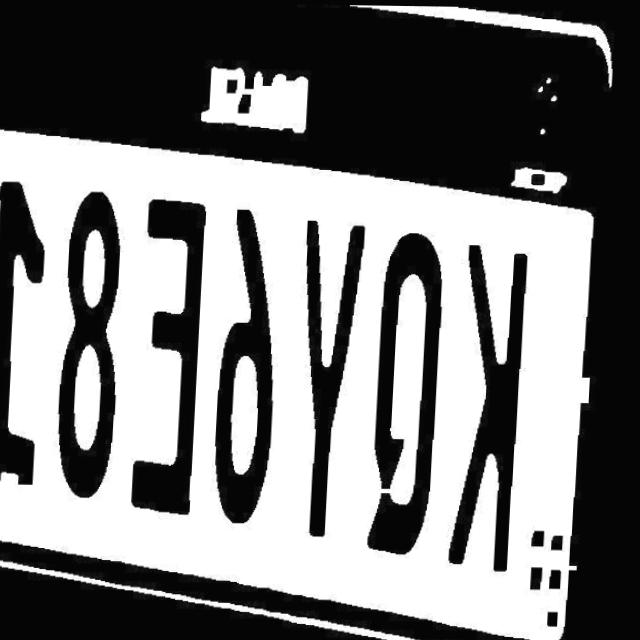1: (0, 177, 65, 494)
6: (210, 203, 291, 535)
8: (52, 187, 138, 503)
e: (125, 192, 222, 528)
k: (444, 231, 550, 563)
q: (366, 213, 448, 555)
y: (286, 210, 371, 549)
